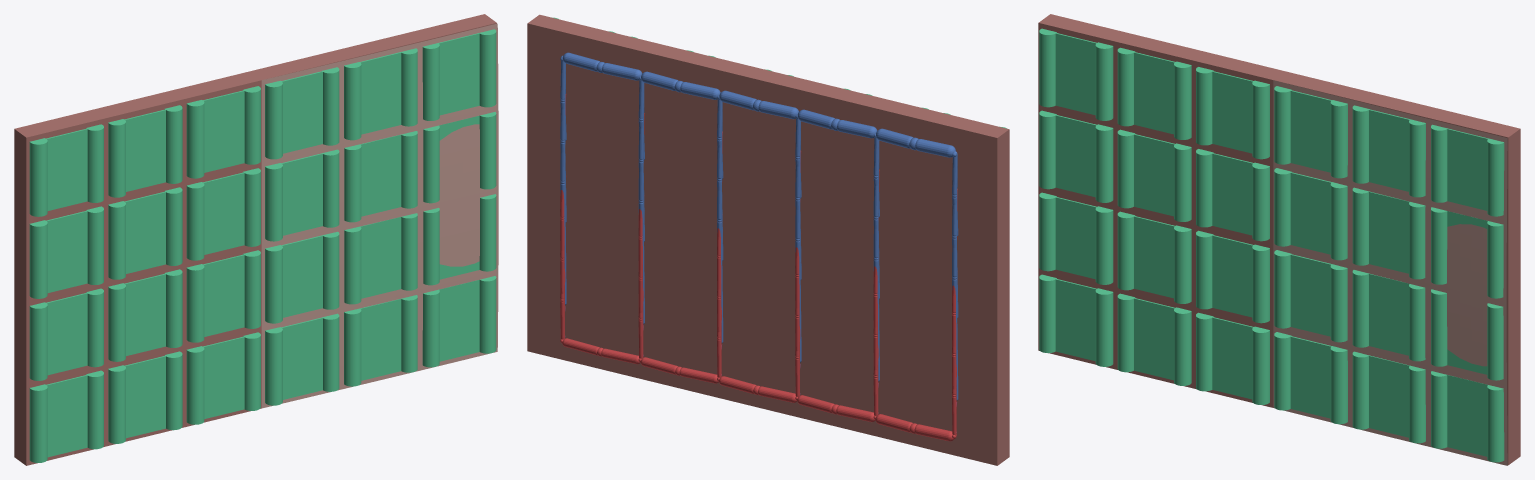
Rendered from dranmar_perfused_tissue_recovered.glb.
3 views of the same model, side by side, from view 1: azimuth 30°, elevation 25°; view 2: azimuth 150°, elevation 25°; view 3: azimuth 330°, elevation 25° (orthographic).
Visible parts, largest first — view 1: TissueBulk, TissueSurface, Overlay_11, Overlay_10, Overlay_9, Overlay_4, Overlay_7, Overlay_1, Overlay_5, Overlay_6, Overlay_8, Overlay_0 (+14 smaller); view 2: TissueBulk, VT0, VT1, VT2, VT3, VT4, AT0, AT1, AT2, AT3, AT4, VB05 (+5 smaller); view 3: TissueBulk, TissueSurface, Overlay_4, Overlay_5, Overlay_1, Overlay_2, Overlay_3, Overlay_6, Overlay_0, Overlay_7, Overlay_10, Overlay_11 (+14 smaller).
Boxes of the visible parts, x1=… form: TissueBulk: x1=14, y1=14, x2=496, y2=465; TissueSurface: x1=261, y1=23, x2=498, y2=408; Overlay_11: x1=186, y1=86, x2=260, y2=178; Overlay_10: x1=186, y1=168, x2=260, y2=260; Overlay_9: x1=186, y1=250, x2=260, y2=342; Overlay_4: x1=108, y1=351, x2=182, y2=443; Overlay_7: x1=108, y1=105, x2=182, y2=197; Overlay_1: x1=29, y1=288, x2=103, y2=380; Overlay_5: x1=108, y1=269, x2=182, y2=361; Overlay_6: x1=108, y1=187, x2=182, y2=279; Overlay_8: x1=186, y1=332, x2=260, y2=424; Overlay_0: x1=29, y1=370, x2=103, y2=462; TissueBulk: x1=527, y1=14, x2=1009, y2=465; VT0: x1=876, y1=128, x2=955, y2=157; VT1: x1=797, y1=109, x2=877, y2=138; VT2: x1=719, y1=90, x2=798, y2=119; VT3: x1=641, y1=71, x2=720, y2=99; VT4: x1=562, y1=52, x2=642, y2=80; AT0: x1=875, y1=414, x2=953, y2=441; AT1: x1=797, y1=395, x2=875, y2=422; AT2: x1=719, y1=376, x2=796, y2=402; AT3: x1=640, y1=357, x2=718, y2=383; AT4: x1=562, y1=338, x2=640, y2=364; VB05: x1=560, y1=63, x2=566, y2=304; TissueBulk: x1=1038, y1=14, x2=1520, y2=465; TissueSurface: x1=1273, y1=80, x2=1507, y2=465; Overlay_4: x1=1117, y1=293, x2=1191, y2=385; Overlay_5: x1=1117, y1=211, x2=1191, y2=303; Overlay_1: x1=1039, y1=192, x2=1113, y2=284; Overlay_2: x1=1039, y1=110, x2=1113, y2=202; Overlay_3: x1=1039, y1=28, x2=1113, y2=120; Overlay_6: x1=1117, y1=129, x2=1191, y2=221; Overlay_0: x1=1039, y1=274, x2=1113, y2=366; Overlay_7: x1=1117, y1=47, x2=1191, y2=139; Overlay_10: x1=1196, y1=149, x2=1269, y2=241; Overlay_11: x1=1196, y1=67, x2=1269, y2=159.
Bounding box in the file's own units: 0.18 × 0.12 × 0.0168.
